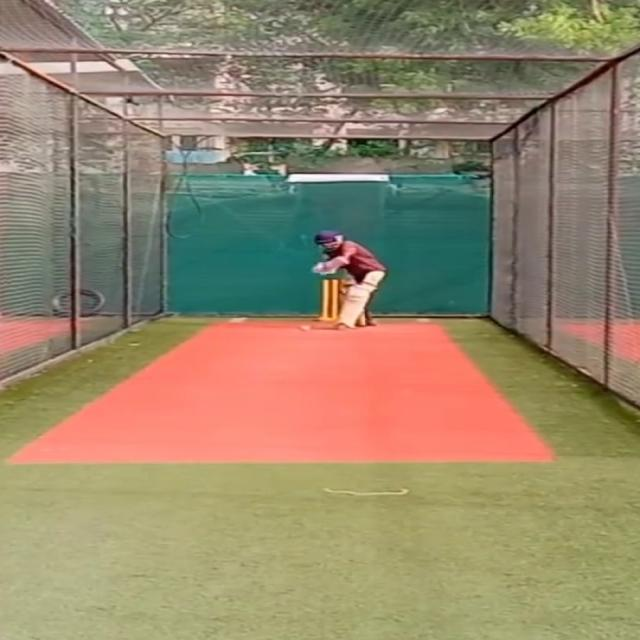ball: (298, 321, 314, 332)
stump: (319, 278, 340, 321)
